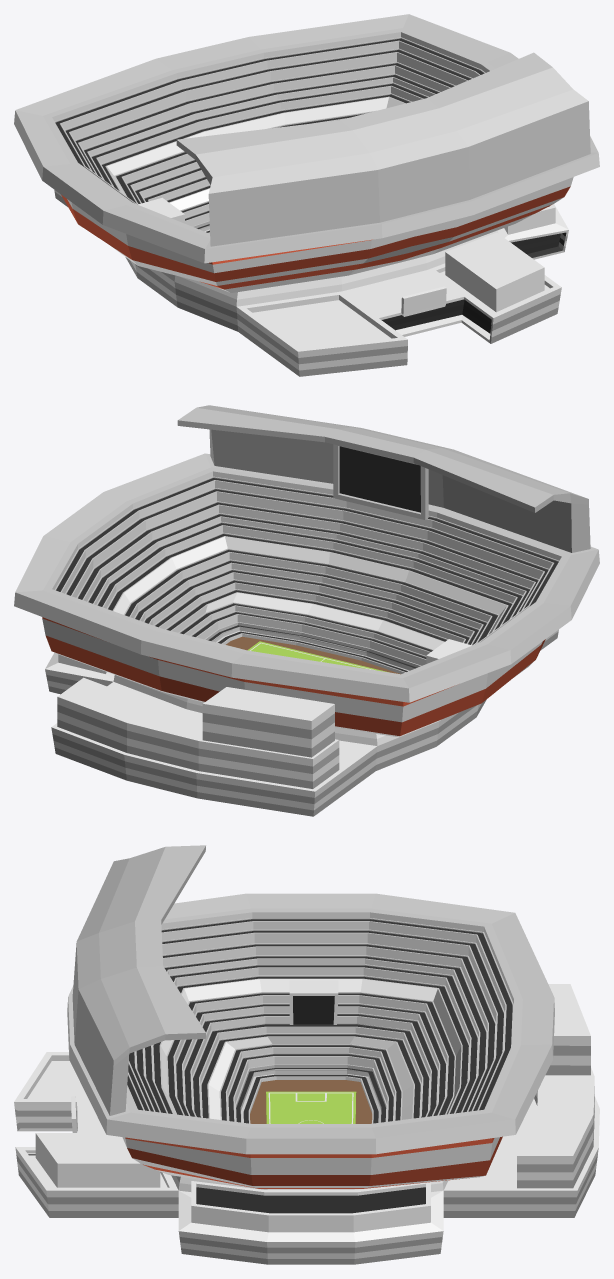
3 renders of one model, top to bottom at view 1: azimuth 30°, elevation 25°; view 2: azimuth 150°, elevation 25°; view 3: azimuth 270°, elevation 25°, orthographic. The views are drawn at different scales.
Visible parts, largest first — view 1: Stadium; view 2: Stadium; view 3: Stadium.
Part boxes in pixels (x1=…): Stadium: x1=14, y1=14, x2=599, y2=376; Stadium: x1=14, y1=405, x2=599, y2=816; Stadium: x1=14, y1=845, x2=599, y2=1264.
Bounding box in the file's own units: 3.64 × 1.45 × 3.66.
Materials: 1 (1 with a texture image).
